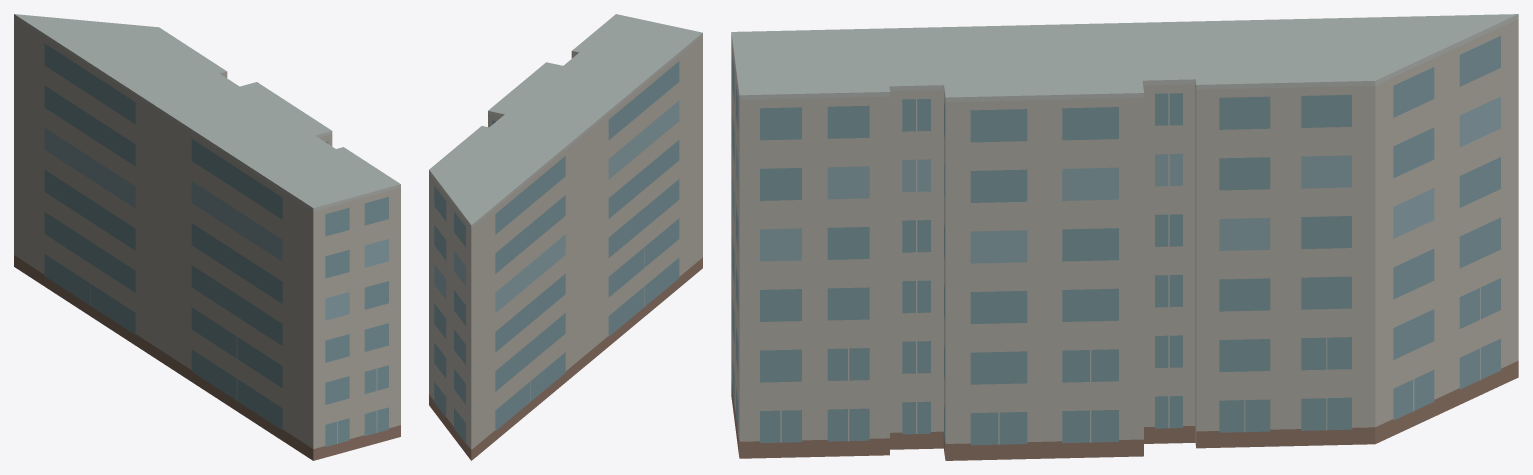
The model's file is survey-upis-32929157.glb.
The picture shows the model from 3 angles, left to right: view 1: azimuth 30°, elevation 25°; view 2: azimuth 150°, elevation 25°; view 3: azimuth 270°, elevation 25°; orthographic projection. The views are drawn at different scales.
Visible parts, largest first — view 1: survey-upis-32929157.tmp; view 2: survey-upis-32929157.tmp; view 3: survey-upis-32929157.tmp.
Part boxes in pixels (bbox=[...]): survey-upis-32929157.tmp: bbox=[14, 14, 400, 460]; survey-upis-32929157.tmp: bbox=[429, 14, 702, 460]; survey-upis-32929157.tmp: bbox=[731, 14, 1518, 460].
Bounding box in the file's own units: 9.08 × 18.4 × 36.14.
